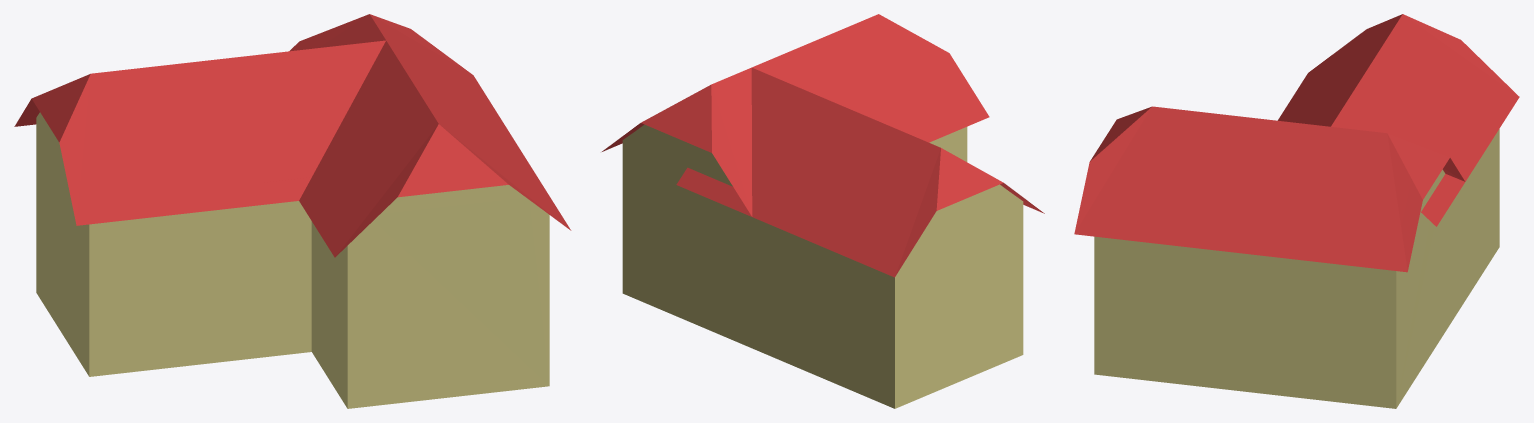
The picture shows the model from 3 angles, left to right: view 1: azimuth 30°, elevation 25°; view 2: azimuth 150°, elevation 25°; view 3: azimuth 270°, elevation 25°; orthographic projection. The views are drawn at different scales.
Size of the model in its own units: 21.76 by 20.53 by 11.87.
